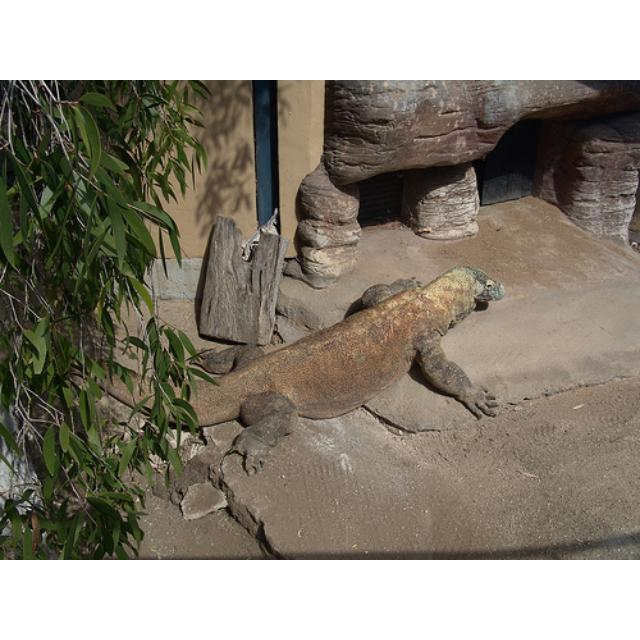KomodoDragon: (52, 263, 507, 475)
